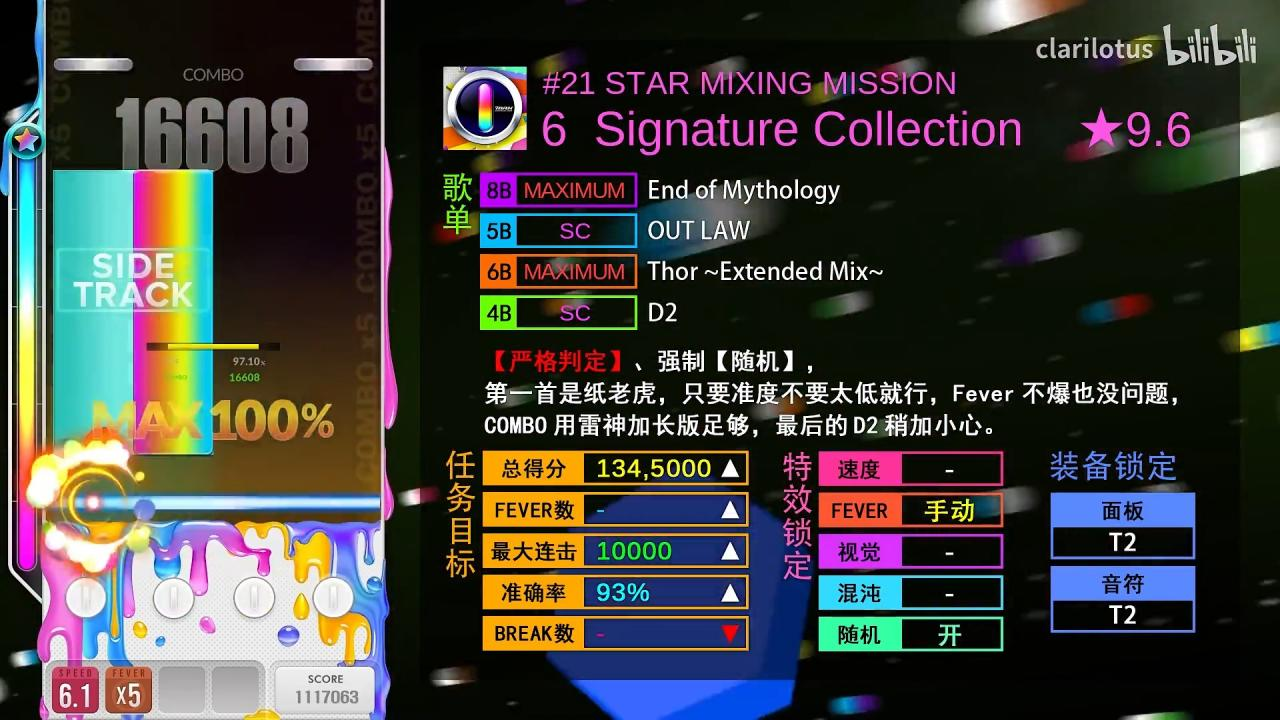hold-end: (133, 170, 213, 184)
hold-start: (133, 442, 213, 457)
note: (54, 57, 134, 72), (293, 57, 374, 71)
side-end: (54, 170, 214, 184)
side-start: (53, 442, 214, 456)
